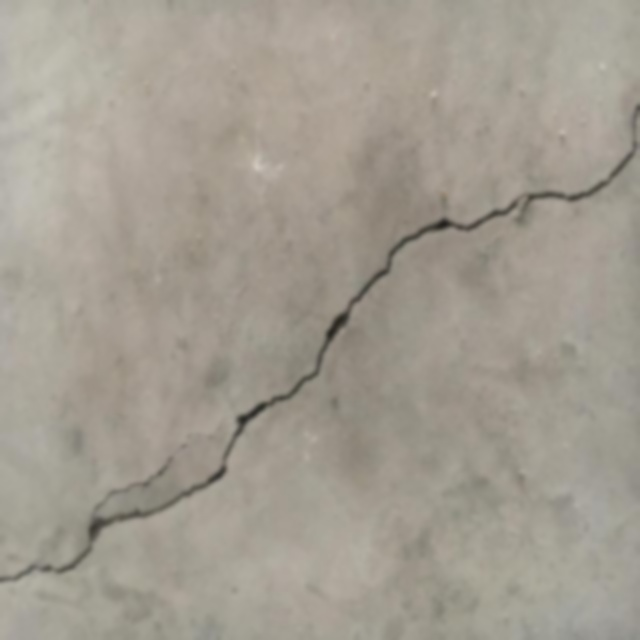SurfaceCrack: (2, 10, 640, 633)
